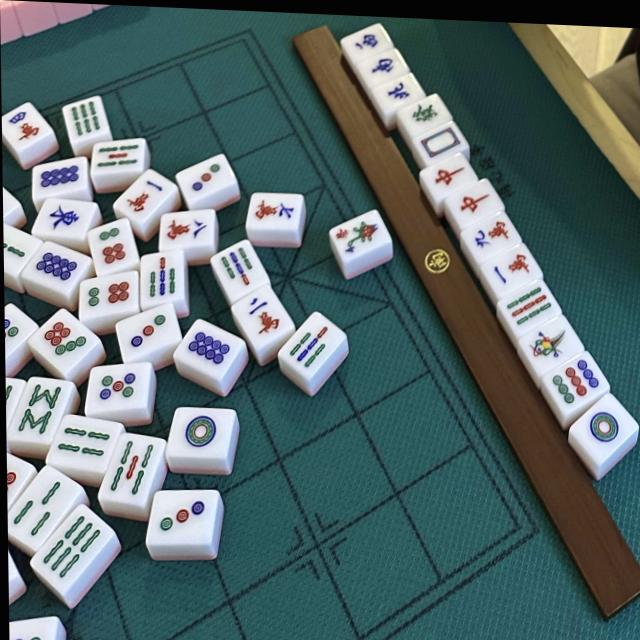bai: (417, 123, 466, 160)
east: (40, 200, 89, 237)
fa: (406, 97, 451, 128)
ff4: (329, 206, 392, 266)
m1: (480, 241, 543, 300), (119, 172, 167, 219)
m2: (231, 282, 296, 354)
m4: (5, 103, 46, 146)
m7: (248, 191, 304, 230)
m8: (161, 211, 211, 244)
m9: (462, 208, 524, 268)
north: (381, 76, 418, 107)
s1: (516, 314, 585, 380)
s2: (4, 222, 43, 280)
s3: (7, 463, 85, 555)
s4: (47, 417, 121, 473)
s5: (97, 432, 164, 507), (92, 141, 141, 171)
s6: (29, 503, 116, 597), (68, 94, 109, 138)
s7: (280, 307, 347, 382), (213, 239, 271, 303), (142, 252, 184, 310)
s8: (7, 376, 73, 444)
s9: (500, 278, 564, 339)
south: (364, 49, 407, 79)
t1: (569, 390, 640, 466), (166, 407, 234, 462)
t3: (148, 487, 218, 548), (116, 302, 182, 364), (177, 153, 233, 198)
t5: (84, 362, 147, 420), (5, 305, 38, 372)
t6: (89, 218, 140, 277), (81, 269, 140, 317)
t7: (30, 308, 100, 378)
t8: (175, 317, 246, 383), (23, 240, 88, 295), (34, 156, 86, 191)
t9: (541, 348, 612, 419)
west: (345, 25, 383, 53)
zhong: (446, 176, 505, 232), (422, 150, 478, 204)
